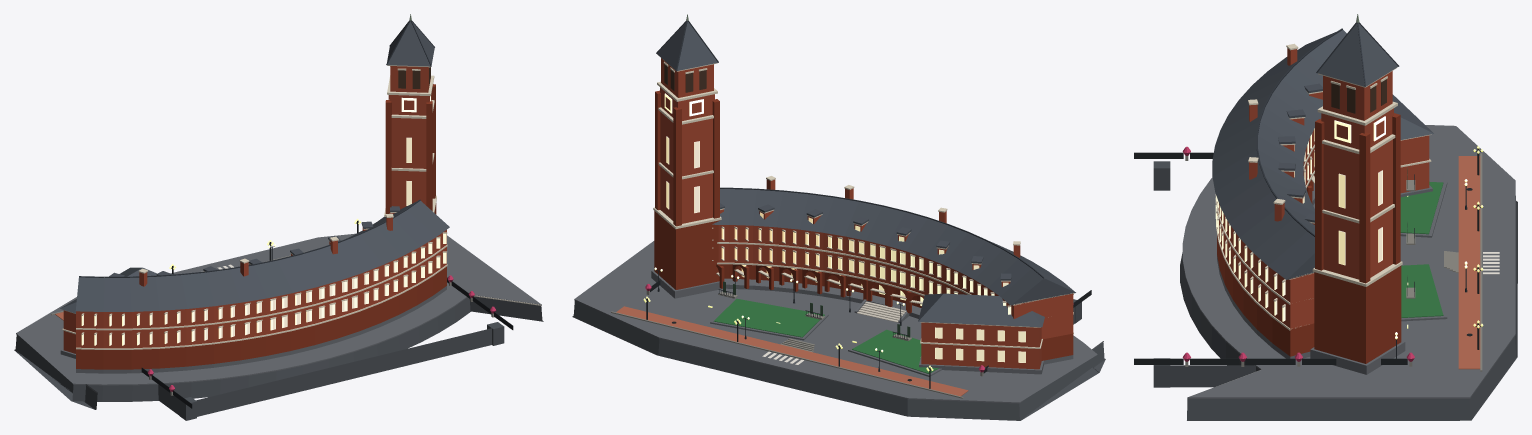
The model's file is lm_04_truong_cdsp_dalat.glb.
3 renders of one model, left to right at view 1: azimuth 30°, elevation 25°; view 2: azimuth 150°, elevation 25°; view 3: azimuth 270°, elevation 25°, orthographic. The views are drawn at different scales.
Visible parts, largest first — view 1: CurvedWing_French_Slate_Roof, CurvedWing_Toulouse_Red_Brick, Foundation_Plinth_Trim, Foundation_Skirt, CurvedWing_Rusticated_Brick_Base, Phase2_Foundation_Skirt_Minus3p5m, BellTower_54m_Toulouse_Brick, CurvedWing_Classroom_Windows_Glow, CurvedWing_Romanesque_Cream_Trim, BellTower_54m_Stone_And_DarkBrick, Courtyard_Granite_Curbs, BellTower_54m_Slate_Spire (+3 smaller); view 2: Foundation_Plinth_Trim, CurvedWing_French_Slate_Roof, CurvedWing_Toulouse_Red_Brick, Foundation_Skirt, BellTower_54m_Stone_And_DarkBrick, BellTower_54m_Toulouse_Brick, CurvedWing_Classroom_Windows_Glow, Courtyard_Granite_Curbs, Courtyard_Green_Parterre, CurvedWing_Rusticated_Brick_Base, CurvedWing_Romanesque_Cream_Trim, Phase2_Interlocking_Brick_Sidewalk (+7 smaller); view 3: Foundation_Plinth_Trim, CurvedWing_French_Slate_Roof, BellTower_54m_Stone_And_DarkBrick, BellTower_54m_Toulouse_Brick, Foundation_Skirt, CurvedWing_Toulouse_Red_Brick, Phase2_Interlocking_Brick_Sidewalk, Courtyard_Green_Parterre, CurvedWing_Rusticated_Brick_Base, BellTower_54m_Slate_Spire, Phase2_Foundation_Skirt_Minus3p5m, Courtyard_Granite_Curbs (+8 smaller).
Boxes of the visible parts, <box> form: CurvedWing_French_Slate_Roof: <box>60,200,449,313</box>; CurvedWing_Toulouse_Red_Brick: <box>63,213,446,353</box>; Foundation_Plinth_Trim: <box>16,233,541,392</box>; Foundation_Skirt: <box>14,296,543,409</box>; CurvedWing_Rusticated_Brick_Base: <box>76,266,446,369</box>; Phase2_Foundation_Skirt_Minus3p5m: <box>158,322,504,420</box>; BellTower_54m_Toulouse_Brick: <box>389,66,431,209</box>; CurvedWing_Classroom_Windows_Glow: <box>81,137,446,345</box>; CurvedWing_Romanesque_Cream_Trim: <box>62,212,447,349</box>; BellTower_54m_Stone_And_DarkBrick: <box>385,84,436,214</box>; Courtyard_Granite_Curbs: <box>60,286,446,373</box>; BellTower_54m_Slate_Spire: <box>387,21,434,66</box>; Foundation_Plinth_Trim: <box>574,241,1103,403</box>; CurvedWing_French_Slate_Roof: <box>712,189,1075,327</box>; CurvedWing_Toulouse_Red_Brick: <box>718,179,1073,369</box>; Foundation_Skirt: <box>572,301,1105,420</box>; BellTower_54m_Stone_And_DarkBrick: <box>654,90,720,289</box>; BellTower_54m_Toulouse_Brick: <box>660,58,714,223</box>; CurvedWing_Classroom_Windows_Glow: <box>666,136,1025,362</box>; Courtyard_Granite_Curbs: <box>651,270,1073,376</box>; Courtyard_Green_Parterre: <box>713,298,938,373</box>; CurvedWing_Rusticated_Brick_Base: <box>716,264,1073,360</box>; CurvedWing_Romanesque_Cream_Trim: <box>712,176,1073,348</box>; Phase2_Interlocking_Brick_Sidewalk: <box>616,306,968,396</box>; Foundation_Plinth_Trim: <box>1182,125,1515,398</box>; CurvedWing_French_Slate_Roof: <box>1212,30,1433,279</box>; BellTower_54m_Stone_And_DarkBrick: <box>1314,113,1401,363</box>; BellTower_54m_Toulouse_Brick: <box>1321,71,1393,279</box>; Foundation_Skirt: <box>1180,196,1517,420</box>; CurvedWing_Toulouse_Red_Brick: <box>1217,48,1429,329</box>; Phase2_Interlocking_Brick_Sidewalk: <box>1458,156,1480,369</box>; Courtyard_Green_Parterre: <box>1400,181,1443,317</box>; CurvedWing_Rusticated_Brick_Base: <box>1217,173,1314,356</box>; BellTower_54m_Slate_Spire: <box>1317,23,1398,86</box>; Phase2_Foundation_Skirt_Minus3p5m: <box>1153,161,1255,387</box>; Courtyard_Granite_Curbs: <box>1217,181,1447,374</box>.
Size of the model in its own units: 95.01 by 57.5 by 55.09.
